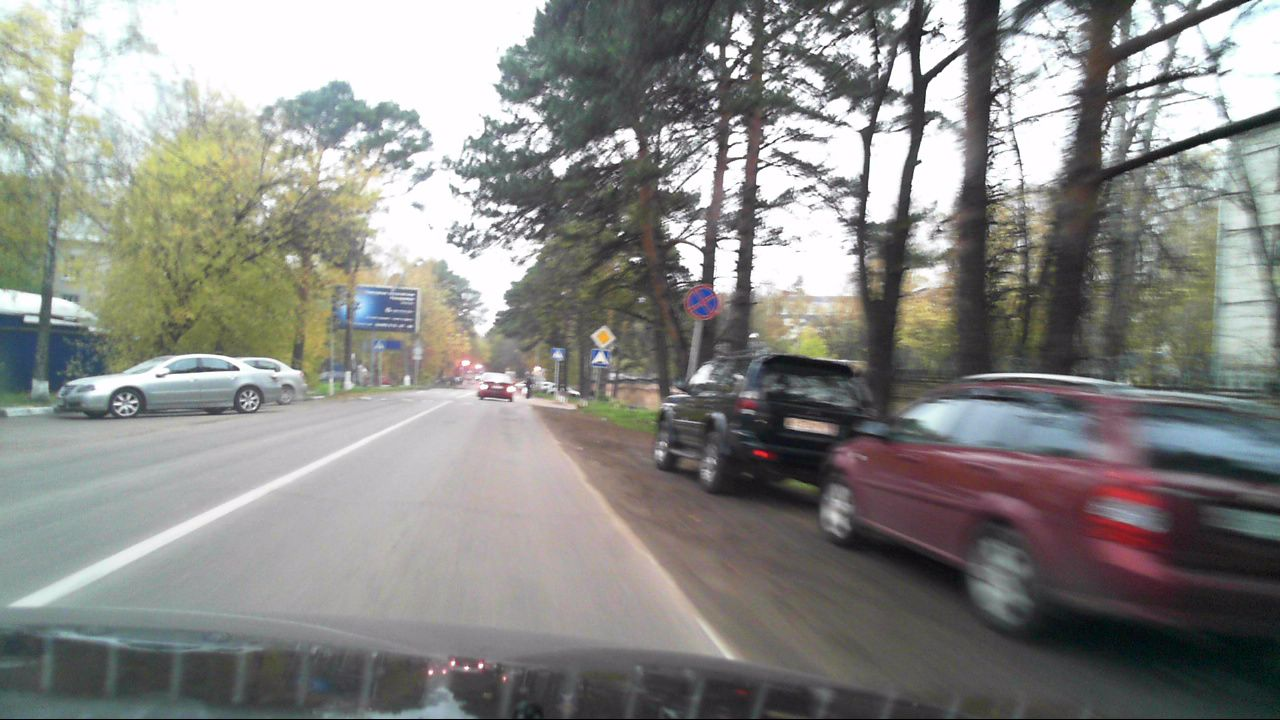No Parking: (683, 284, 719, 321)
